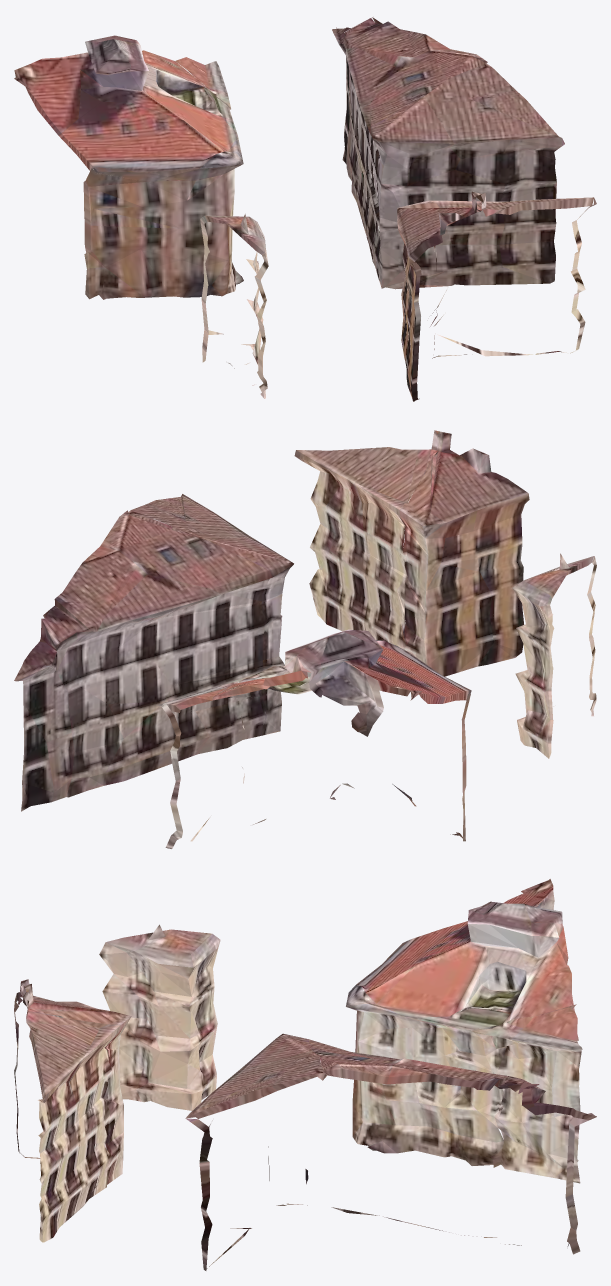
3 views of the same model, one above another, from view 1: azimuth 30°, elevation 25°; view 2: azimuth 150°, elevation 25°; view 3: azimuth 270°, elevation 25° (orthographic). The views are drawn at different scales.
Parts seen in each view (by area): view 1: Mesh_0; view 2: Mesh_0; view 3: Mesh_0.
Part boxes in pixels (left/top/right/bottom): Mesh_0: left=14, top=17, right=596, bottom=401; Mesh_0: left=14, top=430, right=596, bottom=848; Mesh_0: left=14, top=879, right=596, bottom=1270.
Size of the model in its own units: 32.23 by 16.82 by 40.36.
Materials: 1 (1 with a texture image).
